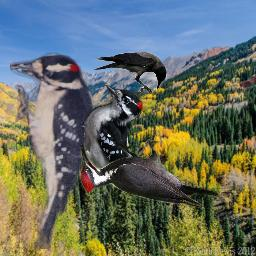Crow: (93, 51, 167, 93)
Woodpecker: (10, 50, 98, 249), (80, 141, 218, 208), (81, 85, 167, 187)
